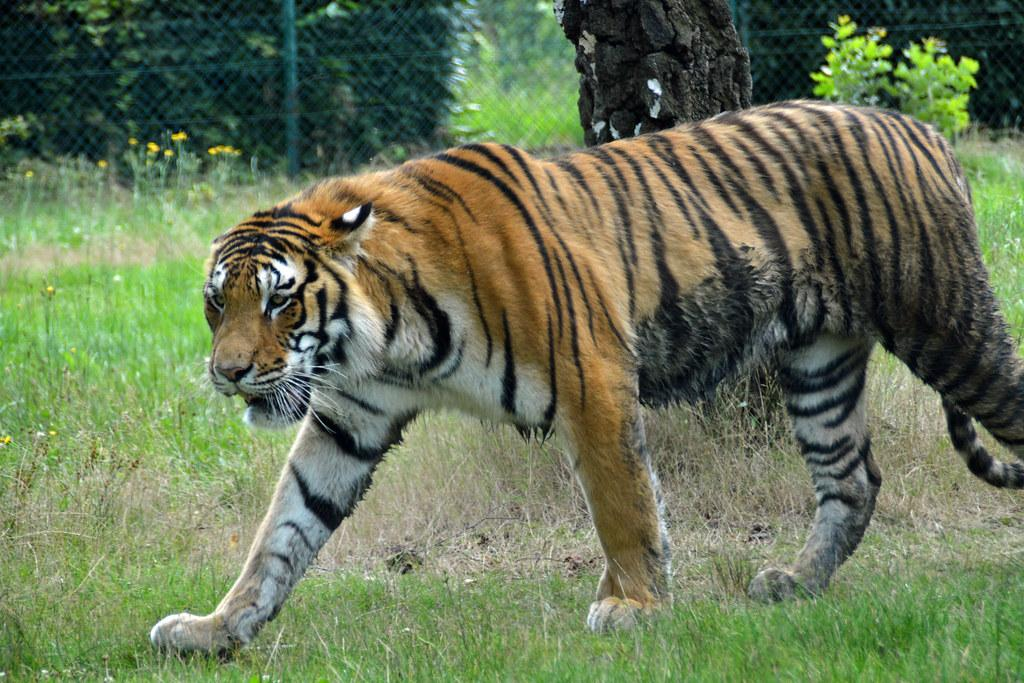tiger: (148, 97, 1023, 664)
